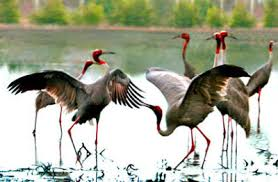seu_dau_do: (7, 49, 143, 168), (141, 66, 253, 169), (246, 40, 278, 130)
